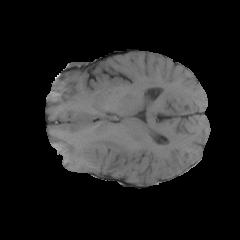glioma: (82, 138, 129, 173)
